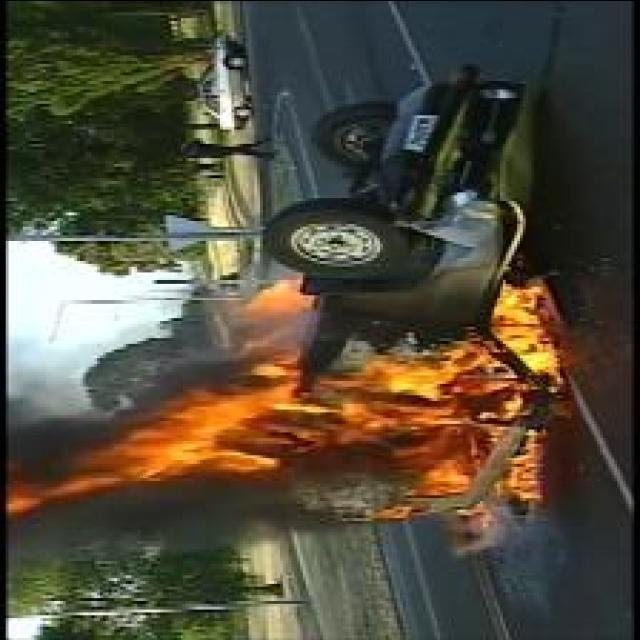Fire: (7, 277, 564, 529), (237, 277, 320, 314)
